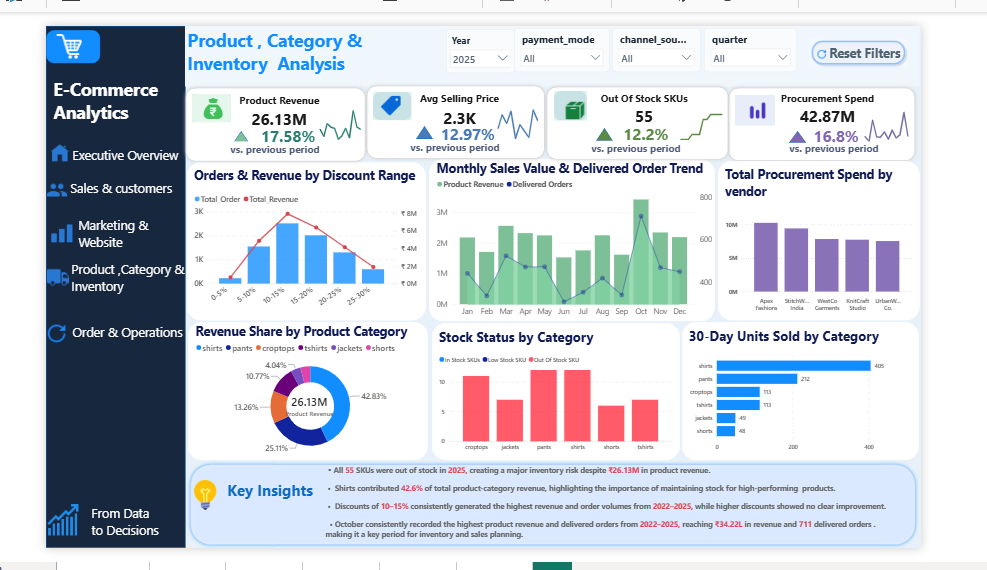

The page's visual inventory and layout, read from the dashboard file:
{"tool":"powerbi","page":{"name":"Page 4","canvas":[1860,1110],"ordinal":3},"visuals":[{"type":"shape","box":[0,0,296.7,1110],"z":0},{"type":"actionButton","box":[1622.4,26.5,210.3,62.1],"z":0,"group":"g11"},{"type":"shape","box":[674.8,119.4,394.2,170.7],"z":0,"group":"g1"},{"type":"shape","box":[1056.6,121.3,402,170.6],"z":0,"group":"g2"},{"type":"shape","box":[1444.9,122.5,412.2,171.4],"z":0,"group":"g8"},{"type":"shape","box":[289.2,123.2,398,172.5],"z":0,"group":"g3"},{"type":"shape","box":[0,8.9,115.6,71.1],"z":1000},{"type":"image","box":[1625.8,48.9,46.6,22.4],"z":1000,"group":"g11"},{"type":"cardVisual","title":"Procurement Spend","fields":{"Data":["Dax_measure-4 (2).Total Procurement Spend"]},"box":[1558.9,136.5,206,78.3],"z":1000,"group":"g8"},{"type":"cardVisual","title":"Avg Selling Price","fields":{"Data":["Dax_measure-4 (2).Total_SKU"]},"box":[791.7,137.9,176.5,88.2],"z":1000,"group":"g1"},{"type":"cardVisual","title":"Out Of Stock SKUs","fields":{"Data":["Dax_measure-4 (2).3Out Of Stock SKU"]},"box":[1161.3,138.1,221.9,80.3],"z":1000,"group":"g2"},{"type":"cardVisual","title":"Product Revenue","fields":{"Data":["Dax_measure-4 (2).Product Revenue"]},"box":[408.2,142.6,175.8,87.1],"z":1000,"group":"g3"},{"type":"image","box":[8.9,17.8,82.2,53.3],"z":2000},{"type":"shape","box":[1079.3,138.1,70,62.7],"z":2000,"group":"g2"},{"type":"shape","box":[695.8,140.6,81.8,59.6],"z":2000,"group":"g1"},{"type":"shape","box":[310.4,144.6,82.6,60.3],"z":2000,"group":"g3"},{"type":"shape","box":[1465.6,144.9,84.8,65.1],"z":2000,"group":"g8"},{"type":"shape","box":[714.2,408.5,28.3,29.1],"z":2000,"group":"g4"},{"type":"textbox","box":[9.8,103.9,270.6,115.7],"z":3000},{"type":"cardVisual","fields":{"Data":["Dax_measure-4 (2).5 outOf Stock yoy growth%"]},"box":[1191.3,202.8,138,51],"z":4000,"group":"g2"},{"type":"cardVisual","fields":{"Data":["Dax_measure-4 (2).Avg_Selling Price YoY %"]},"box":[804.6,204.1,167.2,46.6],"z":4000,"group":"g1"},{"type":"cardVisual","fields":{"Data":["Dax_measure-4 (2).YOY % of Procurement Spend"]},"box":[1589.7,207.1,144.4,47.8],"z":4000,"group":"g8"},{"type":"cardVisual","fields":{"Data":["Dax_measure-4 (2).product Revenue Growth %"]},"box":[420.3,208.8,168.9,47.1],"z":4000,"group":"g3"},{"type":"image","box":[0,251,58.8,39.2],"z":4000},{"type":"textbox","box":[51,251,245.1,52.9],"z":5000},{"type":"textbox","box":[771.5,238,216.3,38.8],"z":6000,"group":"g1"},{"type":"textbox","box":[1155.2,239.8,220.6,38.8],"z":6000,"group":"g2"},{"type":"textbox","box":[1576.7,240,233.2,44.6],"z":6000,"group":"g8"},{"type":"textbox","box":[386.8,243,218.4,39.2],"z":6000,"group":"g3"},{"type":"image","box":[0,309.8,47.1,76.5],"z":6000},{"type":"lineChart","fields":{"Y":["Dax_Measure-3.Total_AD_Spend"],"Category":["Dim_Date.Year Month"]},"box":[948,161,114.4,83.6],"z":7000,"group":"g1"},{"type":"lineChart","fields":{"Category":["Dim_Date.Year Month"],"Y":["Dax_measure-4 (2).3Out Of Stock SKU"]},"box":[1335.2,162.9,116.6,83.6],"z":7000,"group":"g2"},{"type":"lineChart","fields":{"Category":["Dim_Date.Year Month"],"Y":["Dax_measure-4 (2).Product Revenue"]},"box":[568.5,164.1,116,83.9],"z":7000,"group":"g3"},{"type":"lineChart","fields":{"Category":["Dim_Date.Year Month"],"Y":["Dax_measure-4 (2).Total Procurement Spend"]},"box":[1727.3,166.3,121.1,83.5],"z":7000,"group":"g8"},{"type":"textbox","box":[47.1,321.6,233.3,54.9],"z":7000},{"type":"image","box":[0,413.7,64.7,56.9],"z":8000},{"type":"textbox","box":[64.7,400,215.7,94.1],"z":9000},{"type":"textbox","box":[48.9,493.6,253.2,89.4],"z":10000},{"type":"image","box":[2.1,502.1,46.8,53.2],"z":11000},{"type":"textbox","box":[51.1,627.7,244.7,53.2],"z":12000},{"type":"image","box":[0,627.5,45.1,52.9],"z":13000},{"type":"image","box":[2,1017.6,66.7,66.7],"z":14000},{"type":"textbox","box":[92.2,1011.8,203.9,84.3],"z":15000},{"type":"shape","box":[295.9,0,1563.3,128.6],"z":16000},{"type":"group","id":"g1","title":"Total-Revenue KPI","box":[674.8,119.4,394.2,170.7],"z":16000,"group":"g6"},{"type":"group","id":"g2","title":"Total-Revenue KPI","box":[1056.6,121.3,402,170.6],"z":16000,"group":"g7"},{"type":"group","id":"g3","title":"Total-Revenue KPI","box":[289.2,123.2,398,172.5],"z":16000,"group":"g5"},{"type":"group","id":"g4","title":"Total-Revenue KPI","box":[714.2,408.5,28.3,29.1],"z":16000,"group":"g9"},{"type":"textbox","box":[296.3,0,394.4,127.8],"z":17000},{"type":"slicer","fields":{"Values":["Dim_Date.Year"]},"box":[850,5.6,146.3,94.4],"z":18000},{"type":"group","id":"g5","title":"Group 1","box":[289.2,123.2,403.9,172.5],"z":18000,"group":"g13"},{"type":"group","id":"g6","title":"Group 1","box":[674.8,119.4,394.2,170.7],"z":19000,"group":"g12"},{"type":"group","id":"g7","title":"Group 1","box":[1056.6,121.3,402,170.6],"z":19000,"group":"g14"},{"type":"group","id":"g8","title":"Total-Revenue KPI","box":[1444.9,122.5,412.2,171.4],"z":19000,"group":"g10"},{"type":"group","id":"g9","title":"Group 1","box":[714.2,408.5,28.3,29.1],"z":19000},{"type":"shape","box":[1581.6,221.9,36.6,24.8],"z":19500,"group":"g10"},{"type":"group","id":"g10","title":"Group 4","box":[1444.9,122.5,412.2,171.4],"z":20000},{"type":"image","box":[1494.8,154.6,40.9,48.6],"z":20000,"group":"g10"},{"type":"lineClusteredColumnComboChart","title":"Monthly Sales Value & Delivered Order Trend","fields":{"Y":["Dax_measure-4 (2).Product Revenue"],"Category":["Dim_Date.Month"],"Y2":["Dax_Measure 5.Delivered Orders"]},"box":[814.3,283.7,608.2,344.9],"z":21000},{"type":"donutChart","title":"Revenue Share by Product Category","fields":{"Category":["public clean_sku_catalogs.category"],"Y":["Dax_measure-4 (2).Product Revenue"]},"box":[302,630.6,510.2,293.9],"z":22000},{"type":"clusteredColumnChart","fields":{"Y":["Dax_measure-4 (2).Total Procurement Spend"],"Category":["public clean_sku_catalogs.vendor"]},"box":[1430.6,287.8,428.6,338.8],"z":23000},{"type":"cardVisual","fields":{"Data":["Dax_measure-4 (2).Product Revenue"]},"box":[487.8,777.6,146.9,67.3],"z":24000},{"type":"lineClusteredColumnComboChart","title":"Orders & Revenue by Discount Range","fields":{"Category":["public order_clean.Discount Band"],"Y":["Dax_Measure.Total_Order"],"Y2":["Dax_Measure.Total_Revenue"]},"box":[300,289.8,508.2,336.7],"z":25000},{"type":"slicer","fields":{"Values":["public order_clean.payment_mode"]},"box":[996.3,3.7,203.7,94.4],"z":26000},{"type":"slicer","fields":{"Values":["public order_clean.channel_source_last_touch"]},"box":[1203.7,3.7,188.9,94.4],"z":27000},{"type":"group","id":"g11","title":"Reset Button","box":[1622.4,26.5,210.2,61.2],"z":28000},{"type":"group","id":"g12","title":"Group 5","box":[674.8,119.4,393.6,170.2],"z":29000},{"type":"group","id":"g13","title":"Group 6","box":[289.2,123.2,403.9,172.5],"z":30000},{"type":"slicer","fields":{"Values":["Dim_Date.quarter"]},"box":[1400,3.7,198.1,94.4],"z":31000},{"type":"image","box":[318.4,150.1,73,51],"z":32000,"group":"g13"},{"type":"clusteredBarChart","title":"30-Day Units Sold by Category","fields":{"Category":["public myinventroy_clean.category"],"Y":["Dax_measure-4 (2).***Units Sold 30D - Snapshot"]},"box":[1353.1,630.6,504.1,293.9],"z":32000},{"type":"image","box":[705.1,148.1,59.6,44.7],"z":33000,"group":"g12"},{"type":"columnChart","title":"Stock Status by Category","fields":{"Category":["public myinventroy_clean.category"],"Y":["Dax_measure-4 (2).1In Stock SKUs","Dax_measure-4 (2).2Low Stock SKU","Dax_measure-4 (2).3Out Of Stock SKU"]},"box":[820.4,632.7,526.5,291.8],"z":33000},{"type":"group","id":"g14","title":"Group 5","box":[1056.6,121.3,402,170.6],"z":34000},{"type":"shape","box":[788.1,214,36.2,27.7],"z":34000,"group":"g12"},{"type":"shape","box":[1168.6,217.3,36,27.4],"z":34000,"group":"g14"},{"type":"image","box":[1100,154.9,51,49],"z":35000},{"type":"shape","box":[399.4,223.2,30.6,22.4],"z":35000,"group":"g13"},{"type":"shape","box":[300,924.5,1557.1,185.7],"z":36000},{"type":"textbox","box":[589.8,924.5,1257.1,185.7],"z":37000},{"type":"image","box":[295.9,959.2,86,76],"z":38000},{"type":"textbox","box":[381.6,959.2,202,59.2],"z":39000}]}

Visuals, with their boxes on the page's 1860x1110 design canvas (x1, y1, x2, y2). These are canvas units, not pixel positions in the 987x570 screenshot, which may show the page scaled, cropped or inside an application window:
shape: box=[0, 0, 297, 1110]
actionButton: box=[1622, 26, 1833, 89]
shape: box=[675, 119, 1069, 290]
shape: box=[1057, 121, 1459, 292]
shape: box=[1445, 122, 1857, 294]
shape: box=[289, 123, 687, 296]
shape: box=[0, 9, 116, 80]
image: box=[1626, 49, 1672, 71]
"Procurement Spend" cardVisual: box=[1559, 136, 1765, 215]
"Avg Selling Price" cardVisual: box=[792, 138, 968, 226]
"Out Of Stock SKUs" cardVisual: box=[1161, 138, 1383, 218]
"Product Revenue" cardVisual: box=[408, 143, 584, 230]
image: box=[9, 18, 91, 71]
shape: box=[1079, 138, 1149, 201]
shape: box=[696, 141, 778, 200]
shape: box=[310, 145, 393, 205]
shape: box=[1466, 145, 1550, 210]
shape: box=[714, 408, 742, 438]
textbox: box=[10, 104, 280, 220]
cardVisual - Dax_measure-4 (2).5 outOf Stock yoy growth%: box=[1191, 203, 1329, 254]
cardVisual - Dax_measure-4 (2).Avg_Selling Price YoY %: box=[805, 204, 972, 251]
cardVisual - Dax_measure-4 (2).YOY % of Procurement Spend: box=[1590, 207, 1734, 255]
cardVisual - Dax_measure-4 (2).product Revenue Growth %: box=[420, 209, 589, 256]
image: box=[0, 251, 59, 290]
textbox: box=[51, 251, 296, 304]
textbox: box=[772, 238, 988, 277]
textbox: box=[1155, 240, 1376, 279]
textbox: box=[1577, 240, 1810, 285]
textbox: box=[387, 243, 605, 282]
image: box=[0, 310, 47, 386]
lineChart - Dax_Measure-3.Total_AD_Spend x Dim_Date.Year Month: box=[948, 161, 1062, 245]
lineChart - Dim_Date.Year Month x Dax_measure-4 (2).3Out Of Stock SKU: box=[1335, 163, 1452, 246]
lineChart - Dim_Date.Year Month x Dax_measure-4 (2).Product Revenue: box=[568, 164, 684, 248]
lineChart - Dim_Date.Year Month x Dax_measure-4 (2).Total Procurement Spend: box=[1727, 166, 1848, 250]
textbox: box=[47, 322, 280, 376]
image: box=[0, 414, 65, 471]
textbox: box=[65, 400, 280, 494]
textbox: box=[49, 494, 302, 583]
image: box=[2, 502, 49, 555]
textbox: box=[51, 628, 296, 681]
image: box=[0, 628, 45, 680]
image: box=[2, 1018, 69, 1084]
textbox: box=[92, 1012, 296, 1096]
shape: box=[296, 0, 1859, 129]
"Total-Revenue KPI" group: box=[675, 119, 1069, 290]
"Total-Revenue KPI" group: box=[1057, 121, 1459, 292]
"Total-Revenue KPI" group: box=[289, 123, 687, 296]
"Total-Revenue KPI" group: box=[714, 408, 742, 438]
textbox: box=[296, 0, 691, 128]
slicer - Dim_Date.Year: box=[850, 6, 996, 100]
"Group 1" group: box=[289, 123, 693, 296]
"Group 1" group: box=[675, 119, 1069, 290]
"Group 1" group: box=[1057, 121, 1459, 292]
"Total-Revenue KPI" group: box=[1445, 122, 1857, 294]
"Group 1" group: box=[714, 408, 742, 438]
shape: box=[1582, 222, 1618, 247]
"Group 4" group: box=[1445, 122, 1857, 294]
image: box=[1495, 155, 1536, 203]
"Monthly Sales Value & Delivered Order Trend" lineClusteredColumnComboChart: box=[814, 284, 1422, 629]
"Revenue Share by Product Category" donutChart: box=[302, 631, 812, 924]
clusteredColumnChart - Dax_measure-4 (2).Total Procurement Spend x public clean_sku_catalogs.vendor: box=[1431, 288, 1859, 627]
cardVisual - Dax_measure-4 (2).Product Revenue: box=[488, 778, 635, 845]
"Orders & Revenue by Discount Range" lineClusteredColumnComboChart: box=[300, 290, 808, 626]
slicer - public order_clean.payment_mode: box=[996, 4, 1200, 98]
slicer - public order_clean.channel_source_last_touch: box=[1204, 4, 1393, 98]
"Reset Button" group: box=[1622, 26, 1833, 88]
"Group 5" group: box=[675, 119, 1068, 290]
"Group 6" group: box=[289, 123, 693, 296]
slicer - Dim_Date.quarter: box=[1400, 4, 1598, 98]
image: box=[318, 150, 391, 201]
"30-Day Units Sold by Category" clusteredBarChart: box=[1353, 631, 1857, 924]
image: box=[705, 148, 765, 193]
"Stock Status by Category" columnChart: box=[820, 633, 1347, 924]
"Group 5" group: box=[1057, 121, 1459, 292]
shape: box=[788, 214, 824, 242]
shape: box=[1169, 217, 1205, 245]
image: box=[1100, 155, 1151, 204]
shape: box=[399, 223, 430, 246]
shape: box=[300, 924, 1857, 1110]
textbox: box=[590, 924, 1847, 1110]
image: box=[296, 959, 382, 1035]
textbox: box=[382, 959, 584, 1018]
